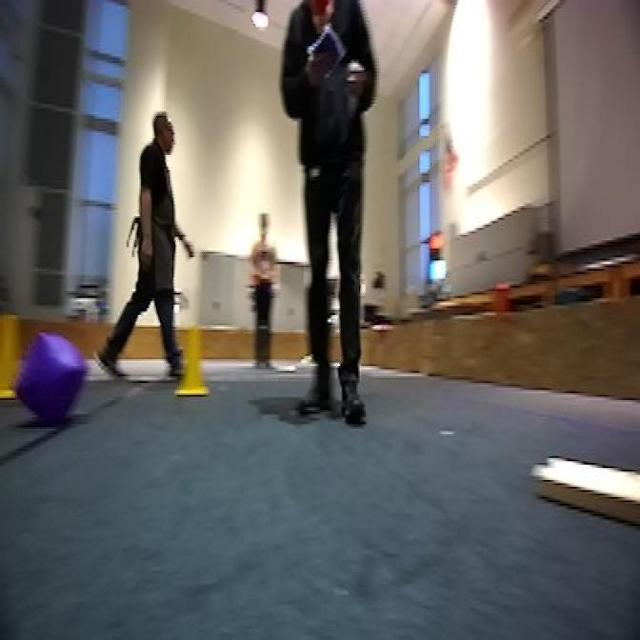frc_cone: (179, 322, 209, 398), (0, 308, 23, 400)
frc_cube: (26, 339, 81, 432)
